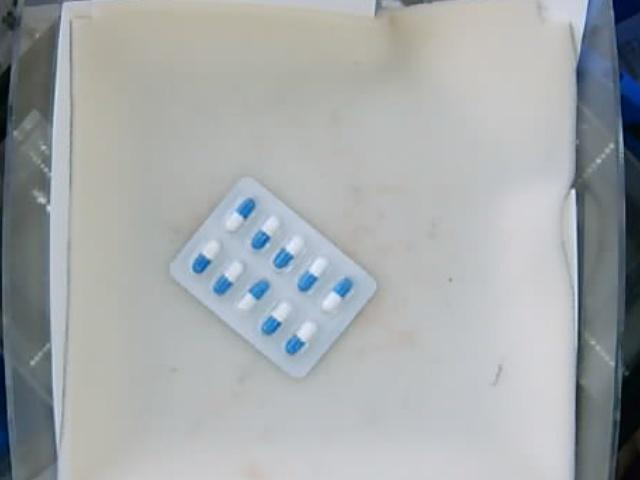Medicine: (165, 178, 379, 382)
